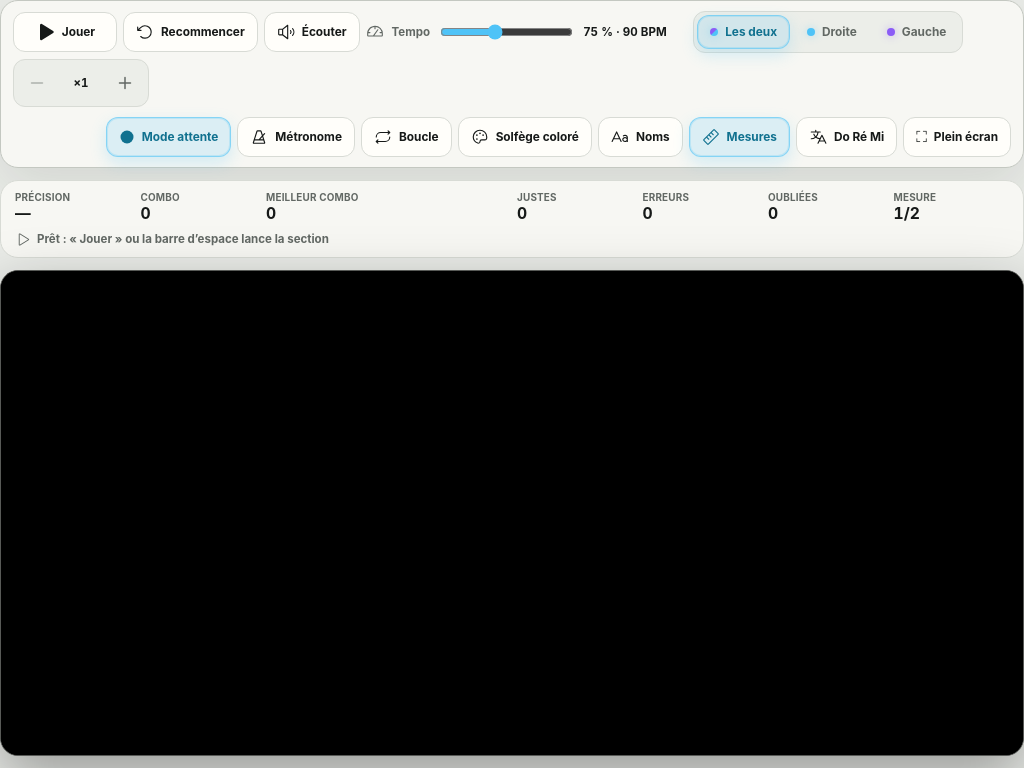
Test: SynthesiaPractice — câblage du mode attente › laisse filer l’horloge quand le mode attente est coupé
Click the button "Mode attente" at (169, 137), box 106,117 -> 231,157
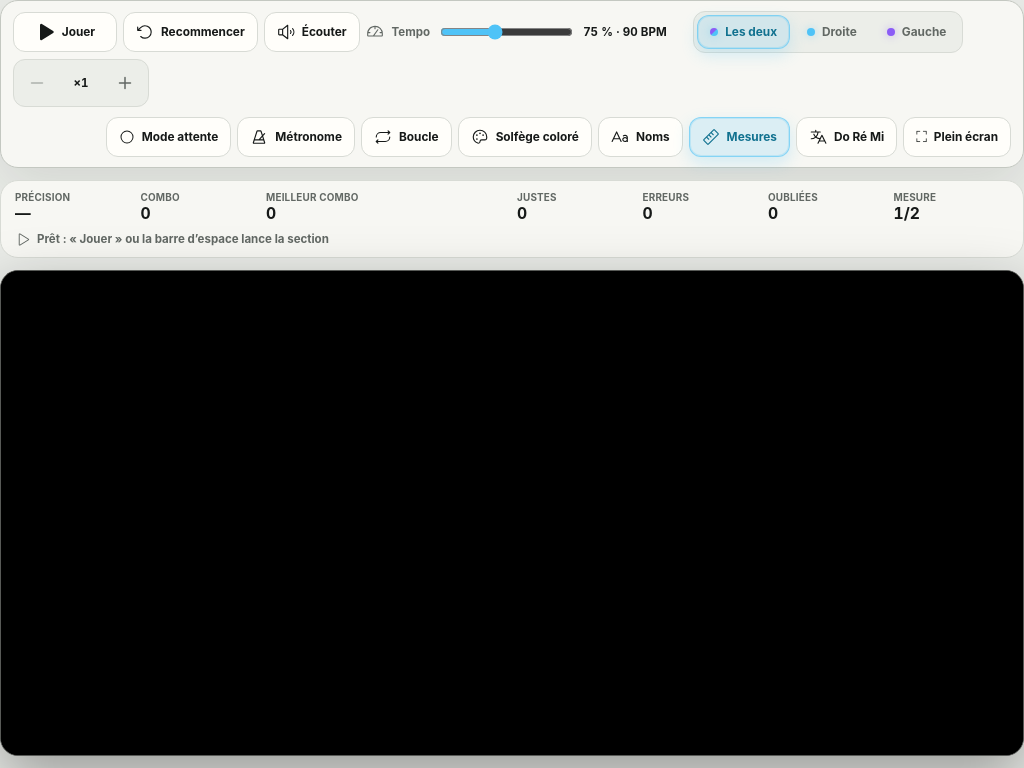
Click the button "Jouer" at (65, 32), box 13,12 -> 117,52
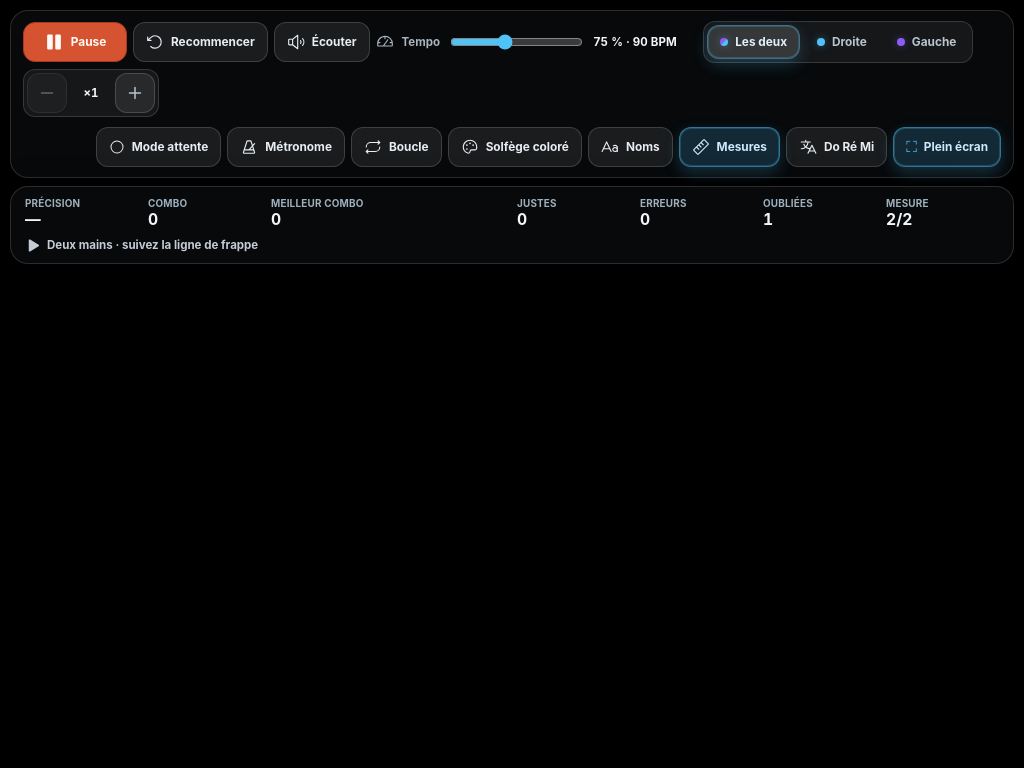
Expected: the element with class "synthesia-hud-state" shows "suivez la ligne de frappe", 122,238 -> 258,252
